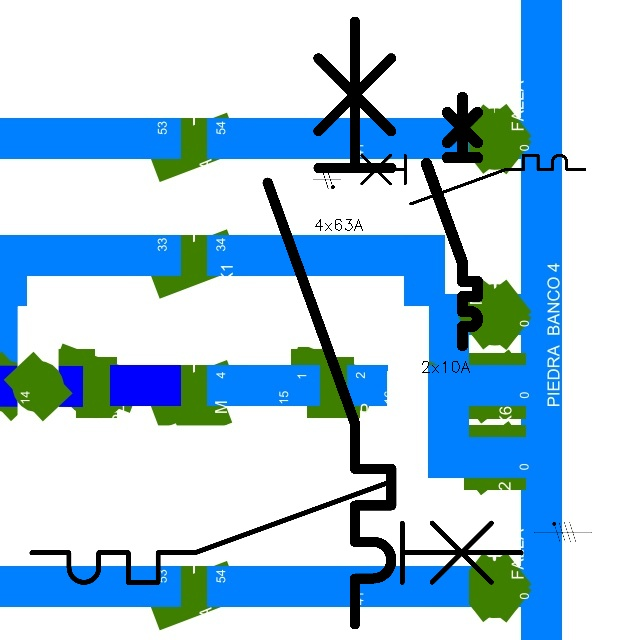interruptor_termomagnetico: (252, 6, 407, 640), (19, 469, 534, 595), (420, 91, 484, 352), (341, 149, 591, 210)
